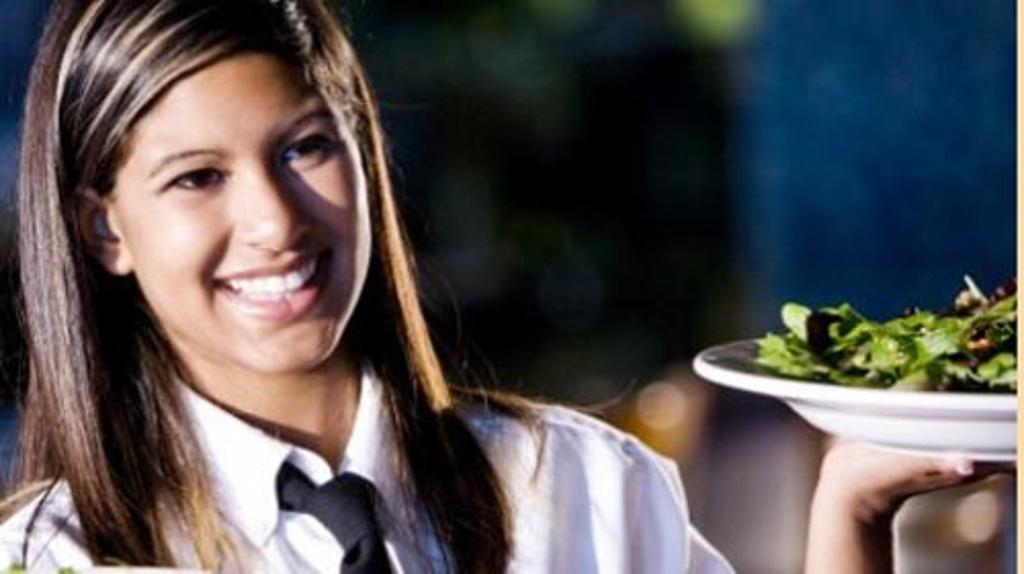face: (116, 52, 370, 368)
